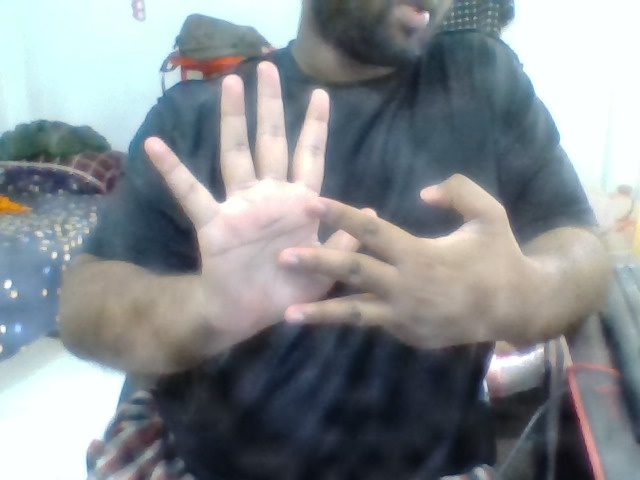M: (140, 62, 531, 382)
